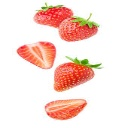strawberry: (51, 57, 102, 93), (56, 13, 102, 42), (45, 97, 86, 120)
